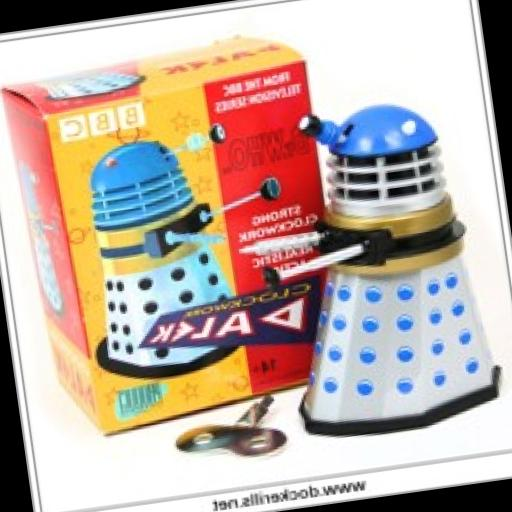dalek: (245, 88, 499, 434), (62, 104, 300, 382)
